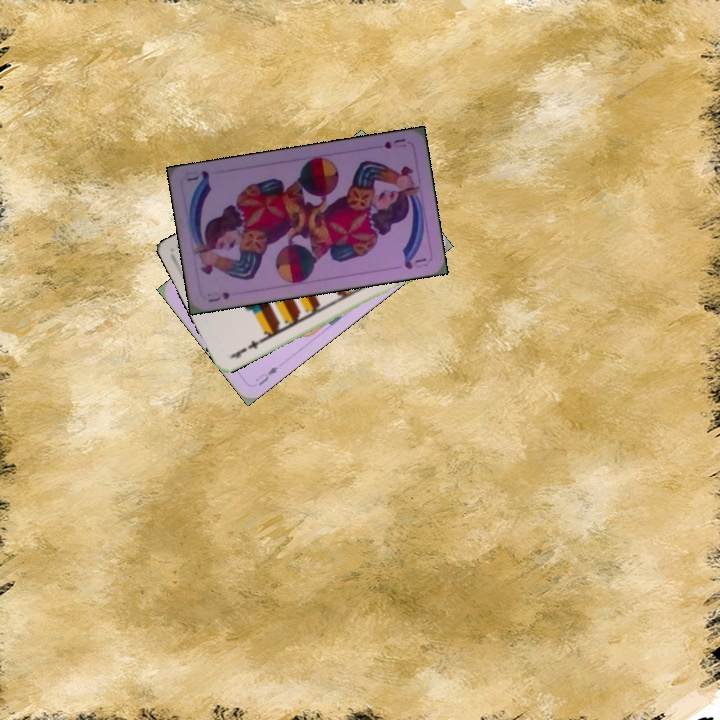E7: (227, 335, 265, 361)
EU: (251, 362, 280, 388)
SU: (379, 134, 409, 151), (203, 288, 232, 305)
